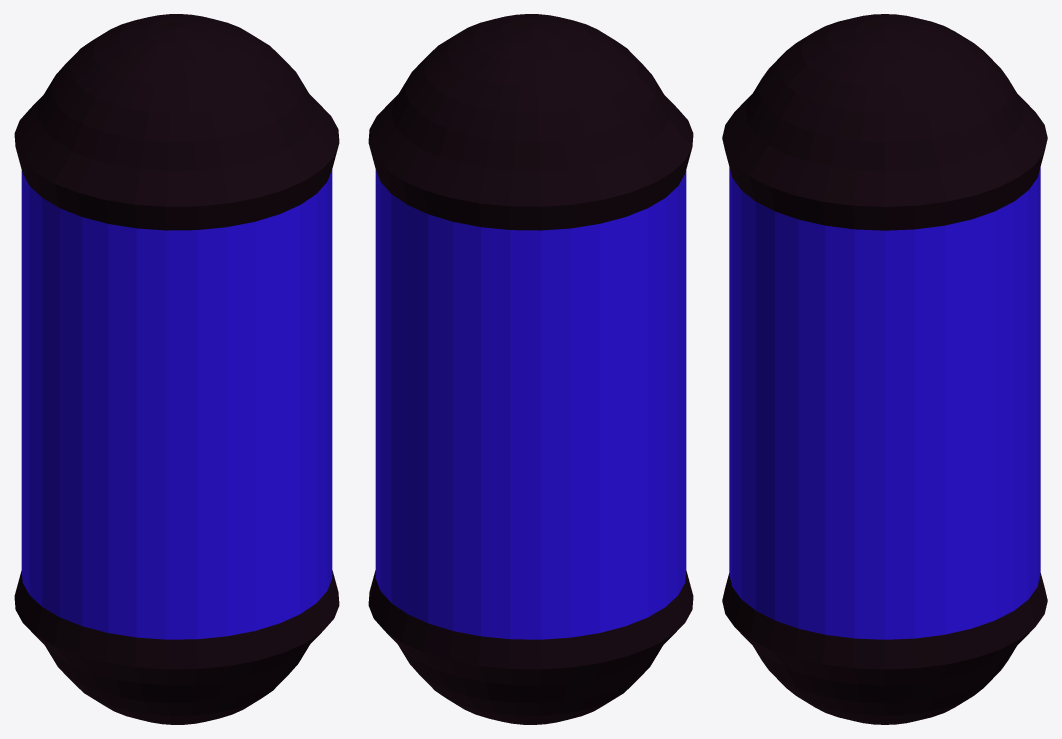
The picture shows the model from 3 angles, left to right: view 1: azimuth 30°, elevation 25°; view 2: azimuth 150°, elevation 25°; view 3: azimuth 270°, elevation 25°; orthographic projection.
Parts seen in each view (by area): view 1: Сфера; view 2: Сфера; view 3: Сфера.
Part boxes in pixels (x1,y1,x2,y2): Сфера: (14, 14, 339, 724); Сфера: (368, 14, 693, 724); Сфера: (722, 14, 1047, 724).
Size of the model in its own units: 216 by 499 by 216.
